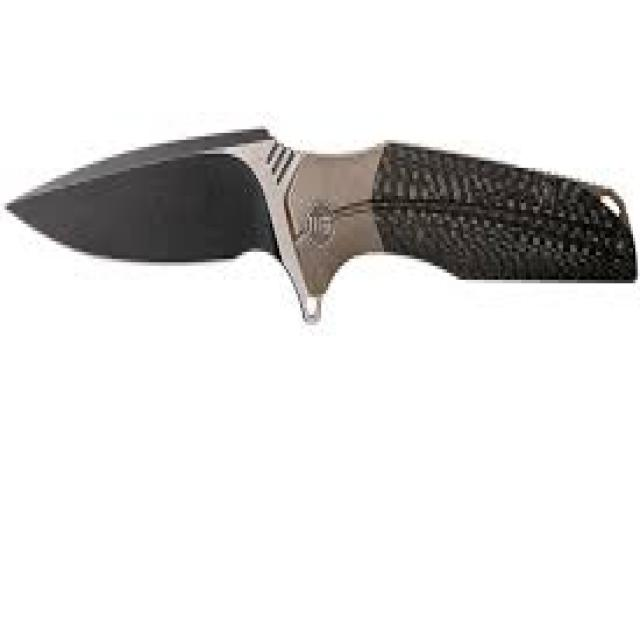knives: (2, 115, 638, 329)
